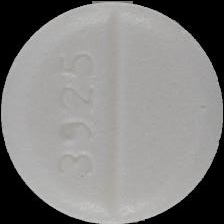63629-2948: (0, 0, 224, 224)
